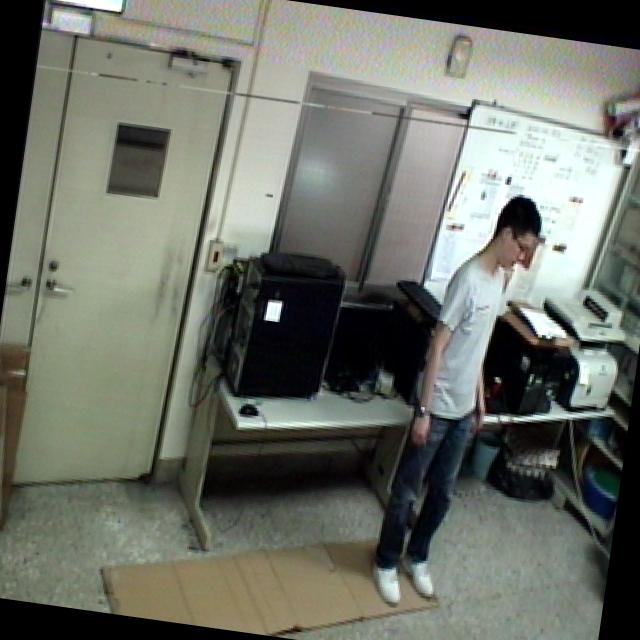stand: (354, 176, 554, 626)
